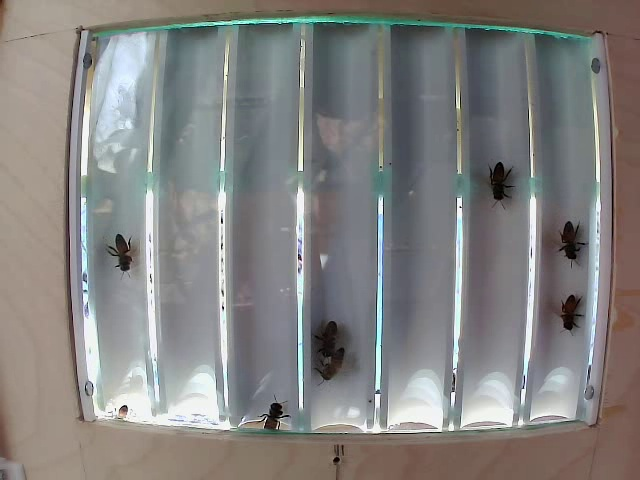bee: (562, 289, 595, 335), (109, 232, 144, 273), (487, 161, 514, 210), (310, 313, 339, 352), (319, 345, 354, 377), (564, 232, 594, 261)
